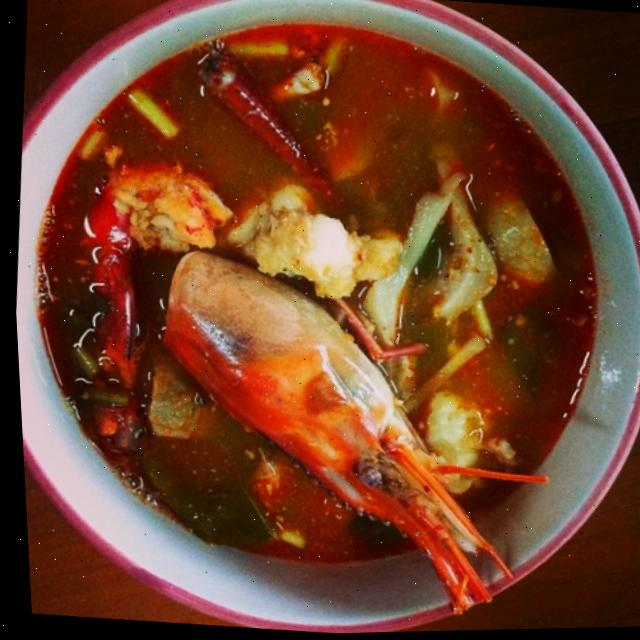汤锅炖物: (1, 12, 638, 633)
